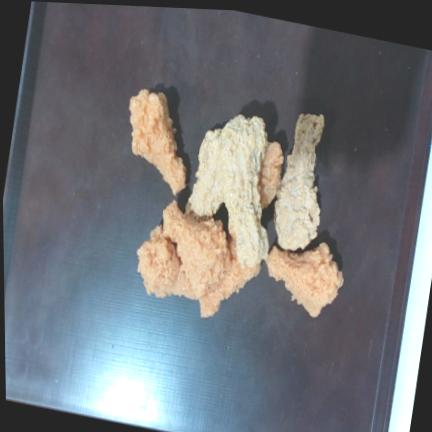chicken: (220, 115, 269, 266), (274, 114, 324, 250), (129, 89, 186, 195), (266, 243, 343, 316), (164, 201, 227, 290), (199, 238, 260, 317), (137, 226, 197, 299)
